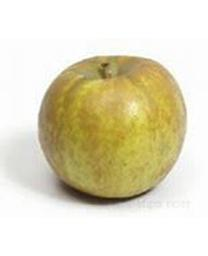apple: (36, 54, 187, 200)
